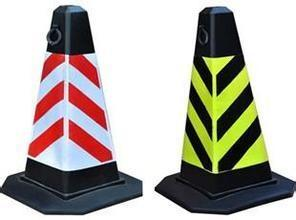cone_barrel: (12, 4, 133, 205), (164, 5, 280, 207)
